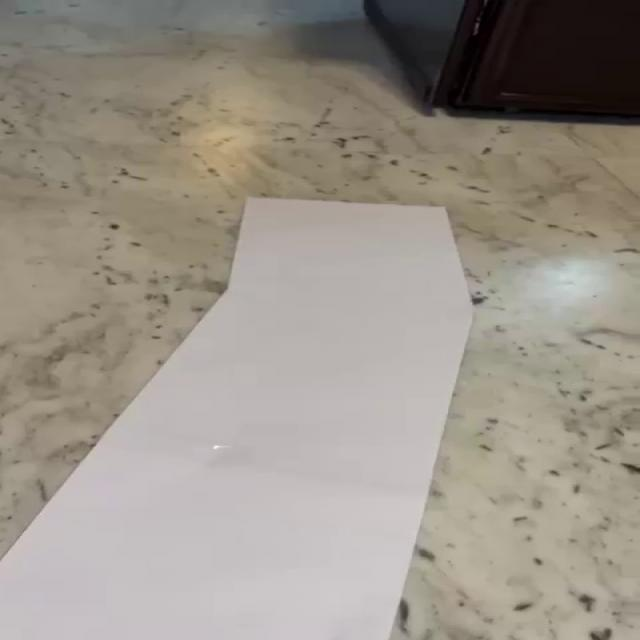road: (2, 199, 472, 640)
